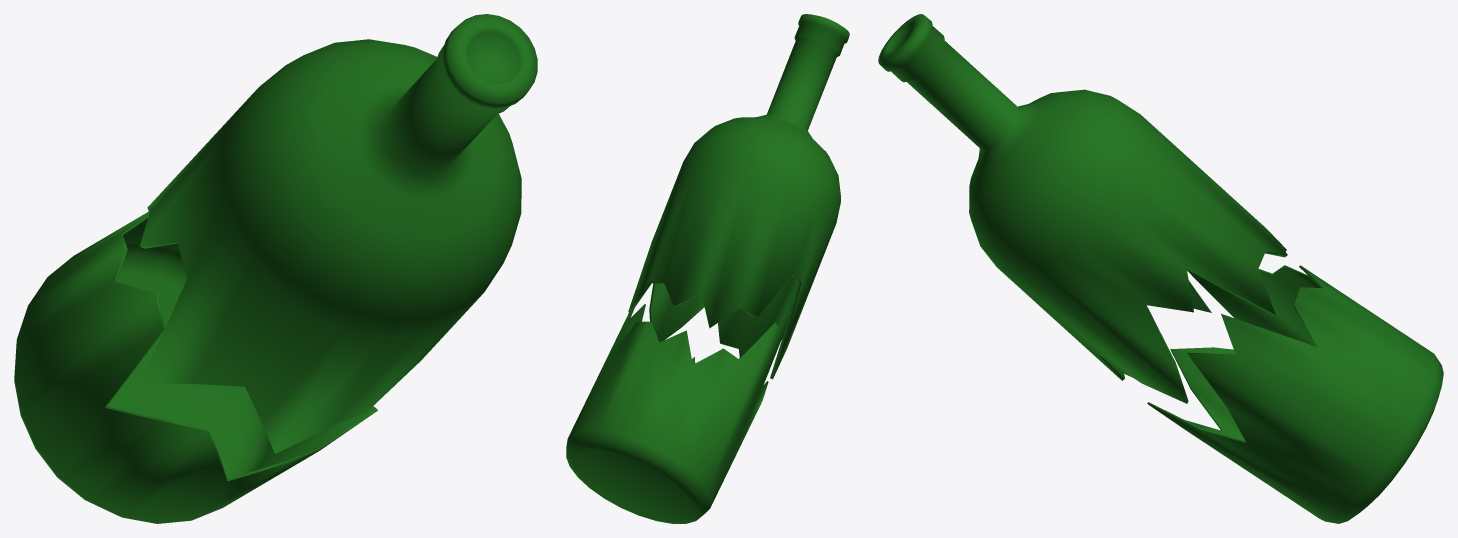
Rendered from BrokenBottle.fbx.
3 renders of one model, left to right at view 1: azimuth 30°, elevation 25°; view 2: azimuth 150°, elevation 25°; view 3: azimuth 270°, elevation 25°, orthographic. The views are drawn at different scales.
Visible parts, largest first — view 1: Cylinder.005, Cylinder.006; view 2: Cylinder.005, Cylinder.006; view 3: Cylinder.005, Cylinder.006.
Boxes of the visible parts, x1,y1,x2,y2 form: Cylinder.005: [139, 14, 537, 453]; Cylinder.006: [14, 211, 377, 523]; Cylinder.005: [628, 14, 849, 379]; Cylinder.006: [566, 304, 783, 523]; Cylinder.005: [878, 14, 1287, 403]; Cylinder.006: [1147, 265, 1443, 523].
Bounding box in the file's own units: 169 × 439 × 454.
